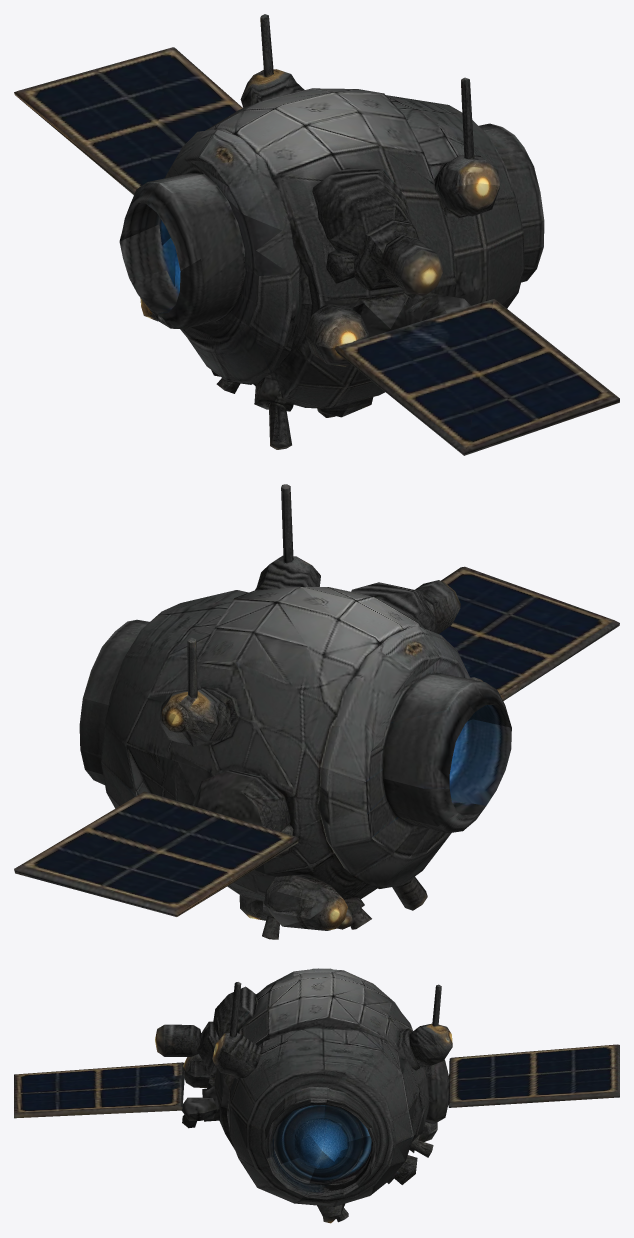
The model's file is sattelite_3.glb.
3 views of the same model, one above another, from view 1: azimuth 30°, elevation 25°; view 2: azimuth 150°, elevation 25°; view 3: azimuth 270°, elevation 25° (orthographic). The views are drawn at different scales.
Visible parts, largest first — view 1: mesh_node; view 2: mesh_node; view 3: mesh_node.
Boxes of the visible parts, x1,y1,x2,y2 form: mesh_node: (14, 14, 619, 455); mesh_node: (14, 484, 619, 939); mesh_node: (14, 968, 619, 1223).
Bounding box in the file's own units: 0.4678 × 0.4727 × 1.
1 material, 1 textured.
